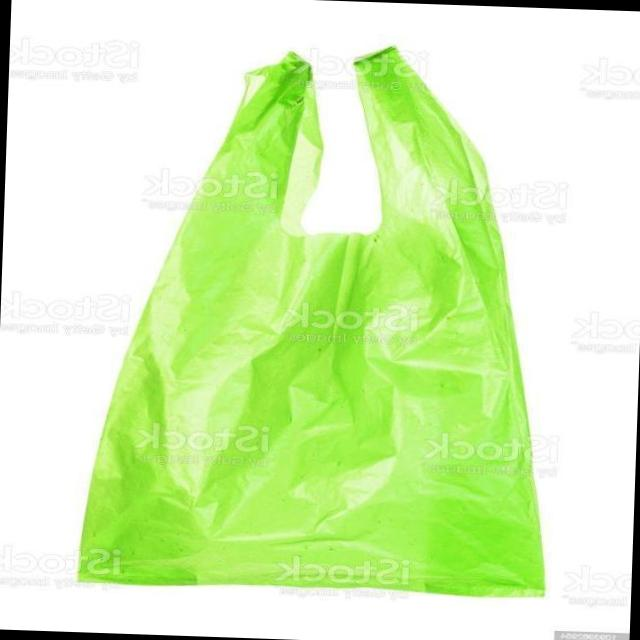KantongPlastik: (75, 33, 566, 600)
